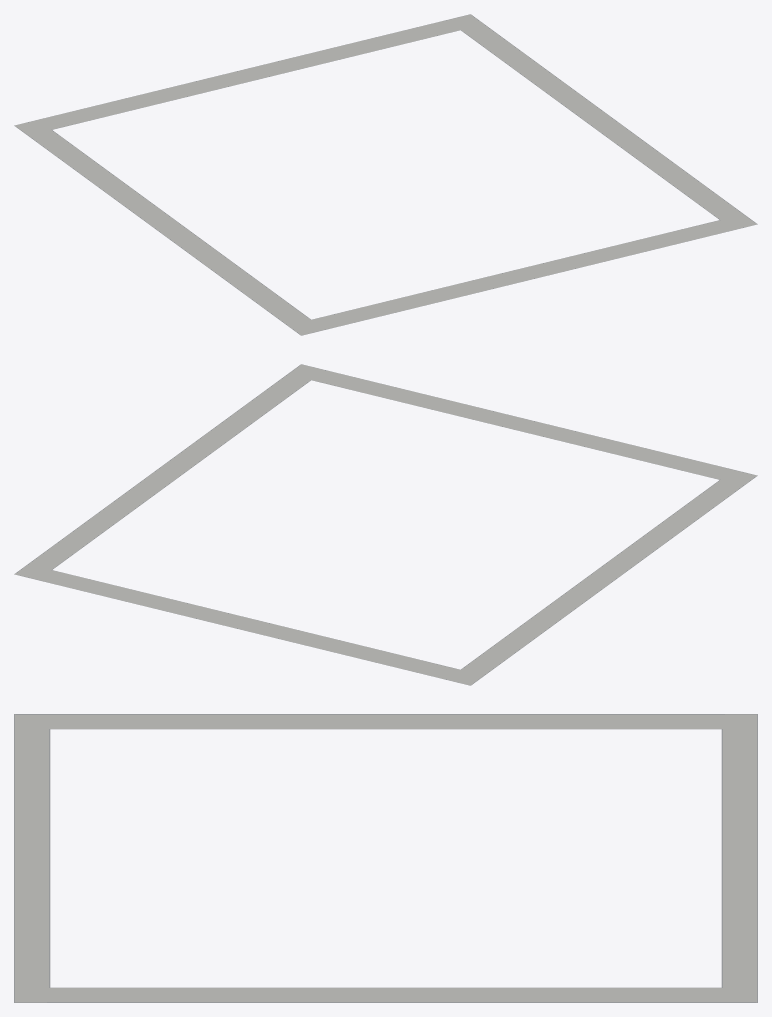
Rendered from kd_stage_1364a3_11_38_bounded.glb.
The picture shows the model from 3 angles, top to bottom: view 1: azimuth 30°, elevation 25°; view 2: azimuth 150°, elevation 25°; view 3: azimuth 270°, elevation 25°; orthographic projection. The views are drawn at different scales.
Parts seen in each view (by area): view 1: kd_stage_1364a3_11_38_bounded; view 2: kd_stage_1364a3_11_38_bounded; view 3: kd_stage_1364a3_11_38_bounded.
Boxes of the visible parts, x1,y1,x2,y2 form: kd_stage_1364a3_11_38_bounded: [14, 14, 757, 335]; kd_stage_1364a3_11_38_bounded: [14, 364, 757, 685]; kd_stage_1364a3_11_38_bounded: [14, 714, 757, 1002].
Size of the model in its own units: 5.99 by 0 by 6.52.
1 material, 1 textured.
